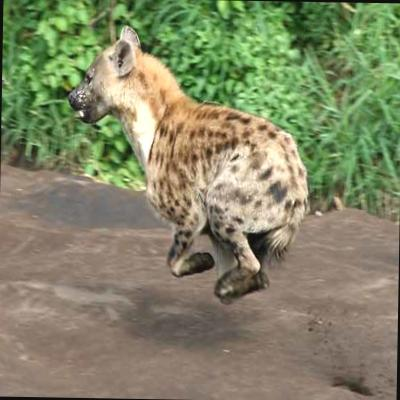hyenas: (52, 14, 400, 337)
